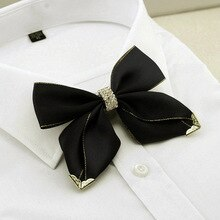bow: (32, 42, 203, 190)
